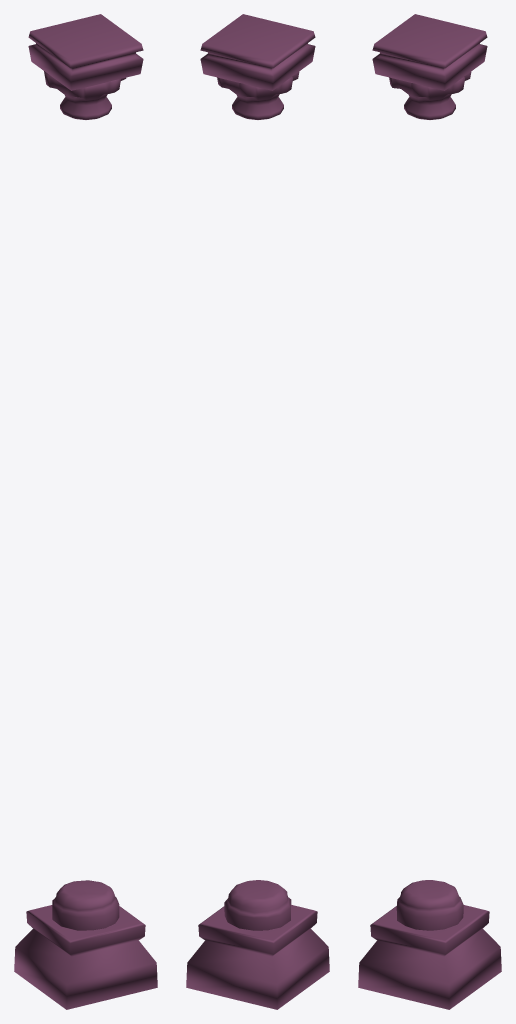
File: Pillar_01_x2_Base_Lod0.fbx
3 renders of one model, left to right at view 1: azimuth 30°, elevation 25°; view 2: azimuth 150°, elevation 25°; view 3: azimuth 330°, elevation 25°, orthographic.
Visible parts, largest first — view 1: Pillar_01_x2_Base_Lod0; view 2: Pillar_01_x2_Base_Lod0; view 3: Pillar_01_x2_Base_Lod0.
Part boxes in pixels (bbox=[...]): Pillar_01_x2_Base_Lod0: bbox=[14, 14, 157, 1009]; Pillar_01_x2_Base_Lod0: bbox=[186, 14, 329, 1009]; Pillar_01_x2_Base_Lod0: bbox=[358, 14, 501, 1009].
Bounding box in the file's own units: 60.95 × 601 × 60.67.
